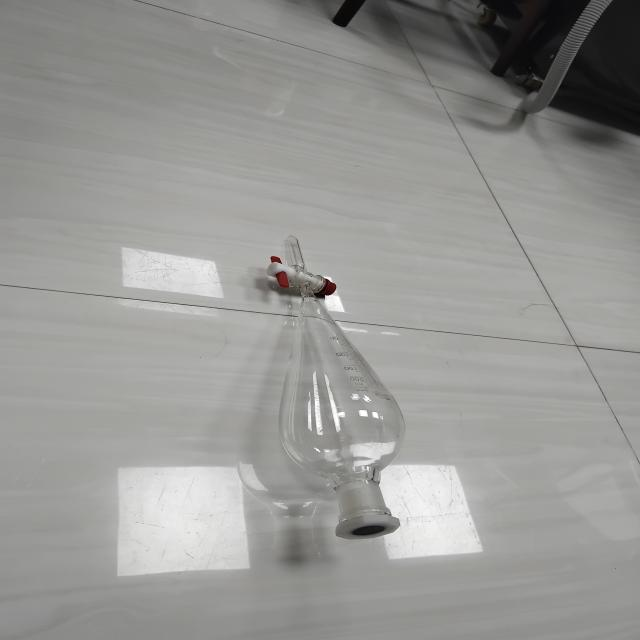Separating_Funnel: (229, 211, 447, 550)
